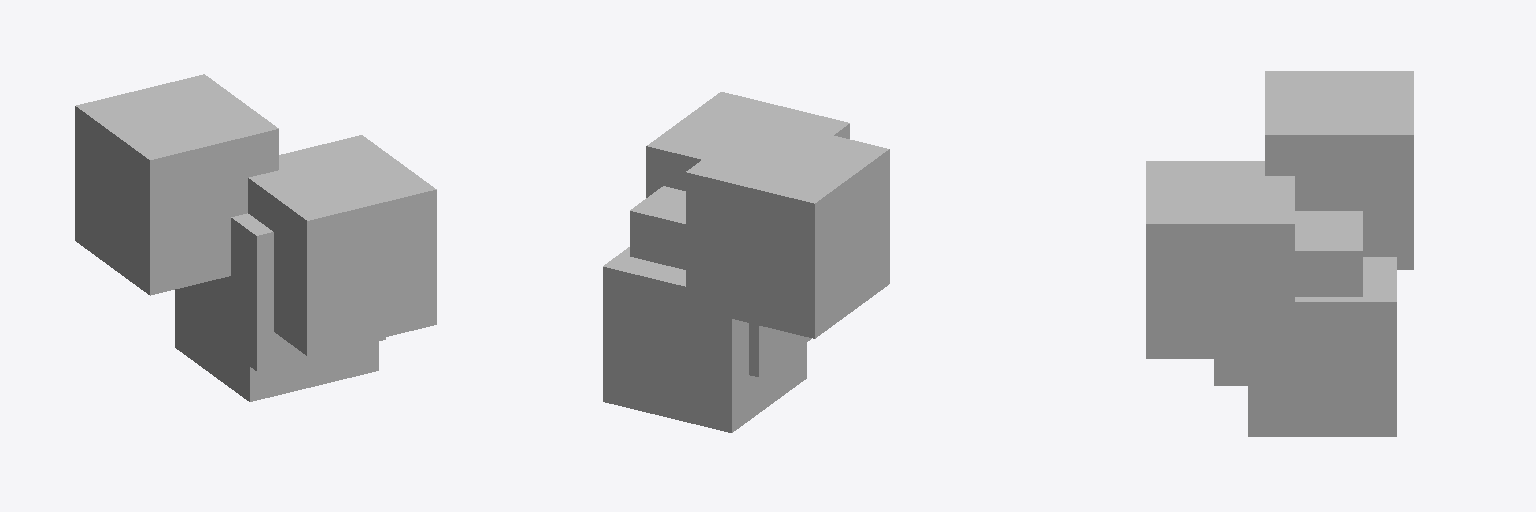
Rendered from obj_groups.obj.
The picture shows the model from 3 angles: view 1: azimuth 30°, elevation 25°; view 2: azimuth 150°, elevation 25°; view 3: azimuth 270°, elevation 25°; orthographic projection.
Visible parts, largest first — view 1: Cube.001, Cube.002, Cube, Cube.003; view 2: Cube.001, Cube.003, Cube.002, Cube; view 3: Cube.002, Cube.001, Cube.003, Cube.
Part boxes in pixels (left/top/right/bottom): Cube.001: left=75, top=74, right=278, bottom=295; Cube.002: left=248, top=135, right=436, bottom=355; Cube: left=182, top=213, right=385, bottom=370; Cube.003: left=175, top=288, right=378, bottom=401; Cube.001: left=686, top=118, right=889, bottom=338; Cube.003: left=603, top=247, right=806, bottom=432; Cube.002: left=646, top=92, right=849, bottom=197; Cube: left=630, top=186, right=811, bottom=376; Cube.002: left=1146, top=161, right=1294, bottom=358; Cube.001: left=1265, top=71, right=1413, bottom=269; Cube.003: left=1248, top=257, right=1396, bottom=436; Cube: left=1214, top=211, right=1362, bottom=385.
Bounding box in the file's own units: 3.52 × 3.81 × 3.59.